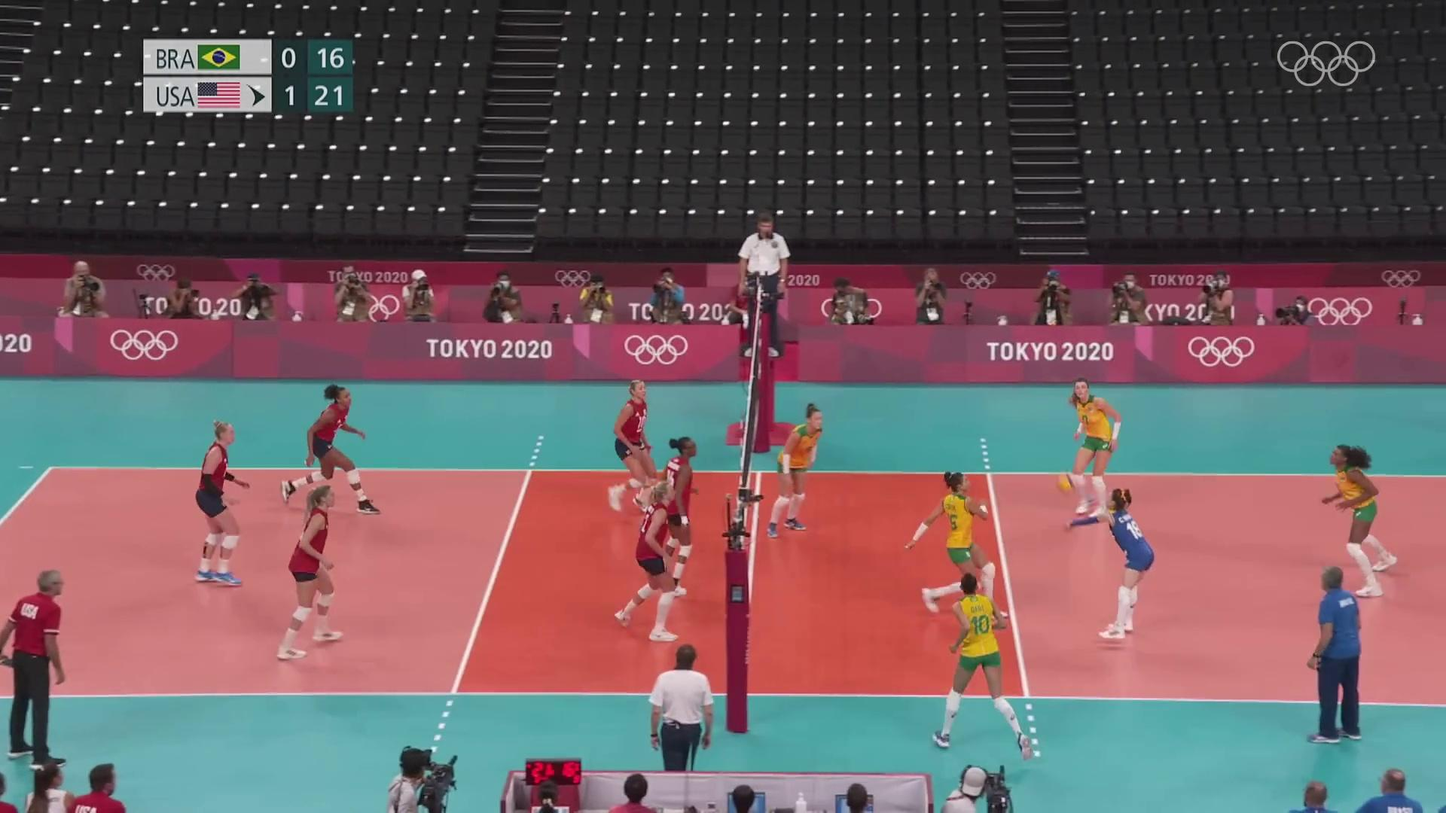player: (925, 575, 1033, 759), (911, 471, 1014, 620), (280, 485, 351, 657), (277, 387, 375, 511), (1078, 490, 1158, 641), (1315, 449, 1394, 600), (617, 483, 691, 639), (187, 422, 251, 583), (604, 379, 665, 520), (767, 400, 831, 534), (1068, 377, 1124, 522), (657, 438, 698, 596)
refree: (643, 645, 717, 771), (740, 217, 795, 355)
